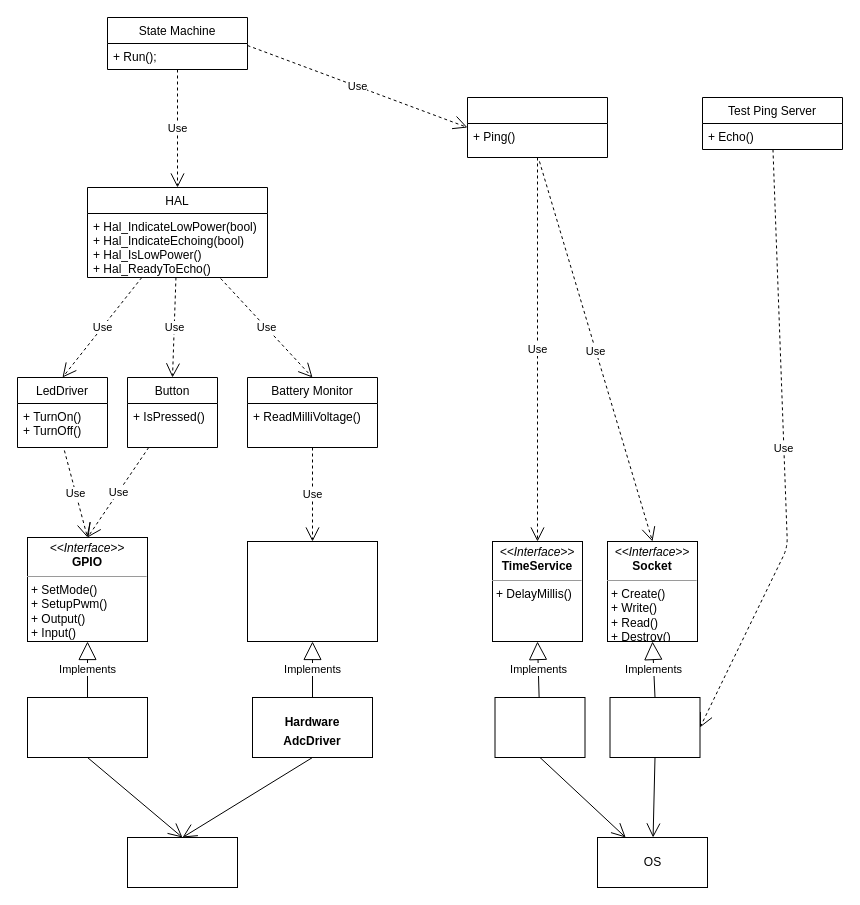
The diagram is 860 pixels wide and 905 high, and some of its shapes have lost their labels. Each missing label, with the box of its shape:
<<Interface>> AdcDriver + Read(): (246, 540, 378, 642)
Hardware: (126, 836, 238, 888)
Hardware GPIO: (26, 696, 148, 758)
OS Socket: (609, 696, 700, 758)
OS TimeService: (494, 696, 585, 758)
Ping Client: (466, 96, 608, 158)
